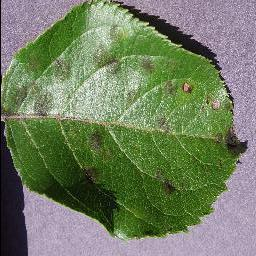apple healthy: (0, 0, 246, 241)
